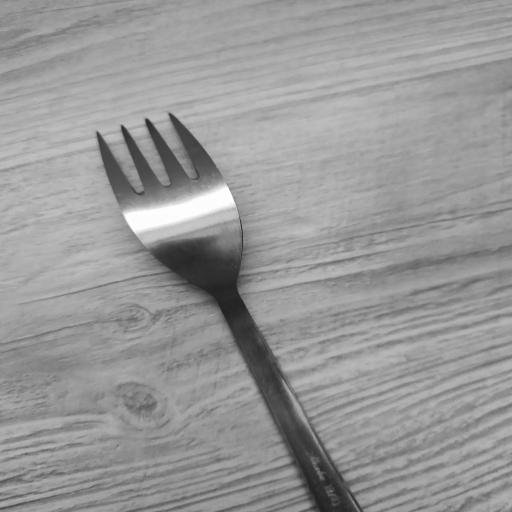fork: (88, 111, 368, 512)
